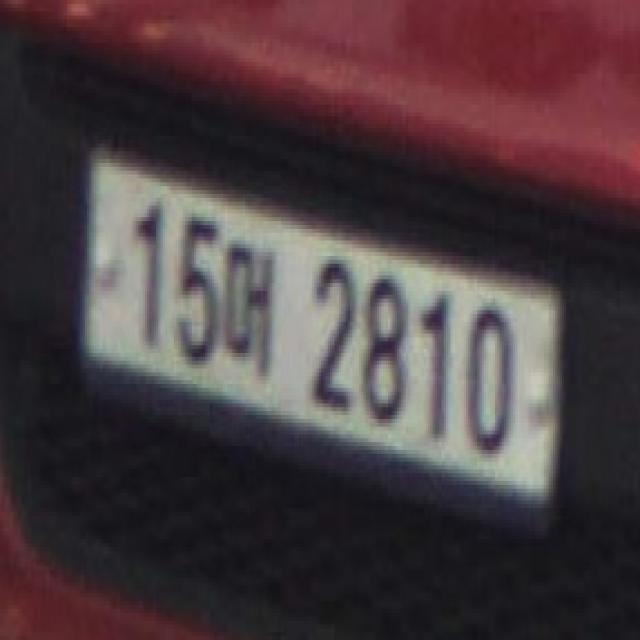0: (462, 291, 522, 461)
1: (123, 182, 167, 357), (413, 275, 457, 446)
2: (308, 244, 357, 427)
5: (174, 194, 223, 380)
8: (361, 256, 413, 431)
license_plate: (71, 136, 573, 535)
meo: (223, 217, 281, 396)
